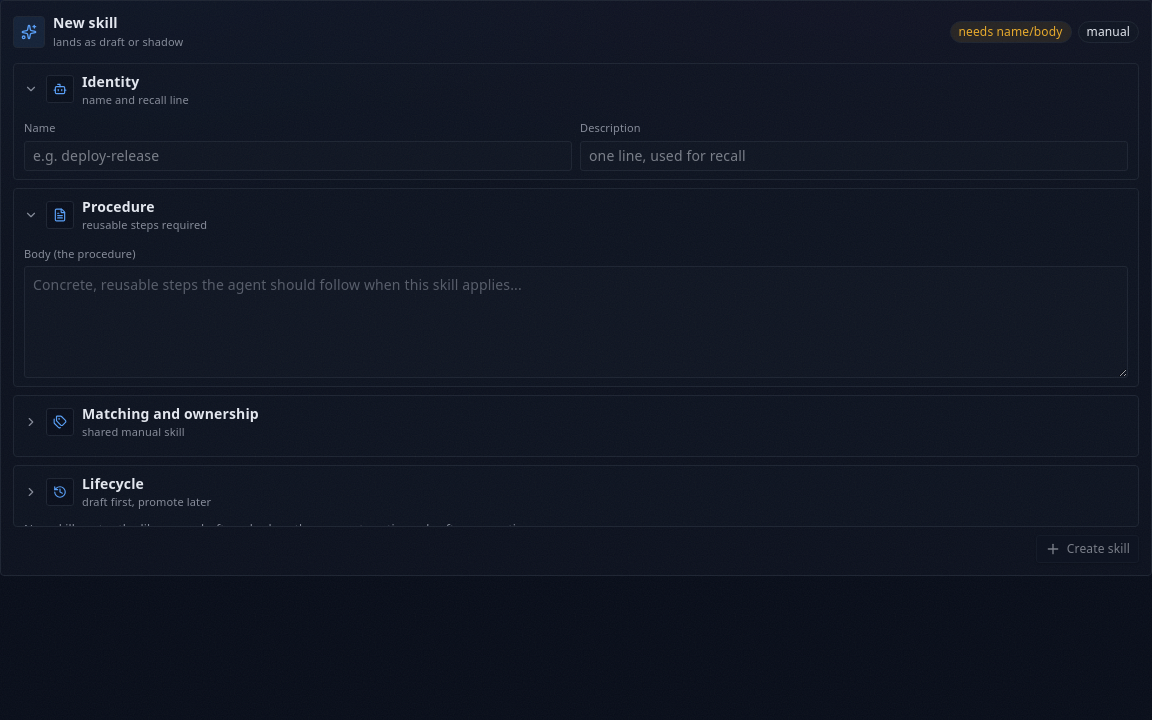
Test: AuthorSkillForm › disables Create until name and body are provided
Expected: the button "Create skill" is disabled, x1=1036 y1=535 x2=1139 y2=563
Step 1. Type "deploy-release" into the field named "Skill name" → (298, 156), box x1=24 y1=141 x2=572 y2=171
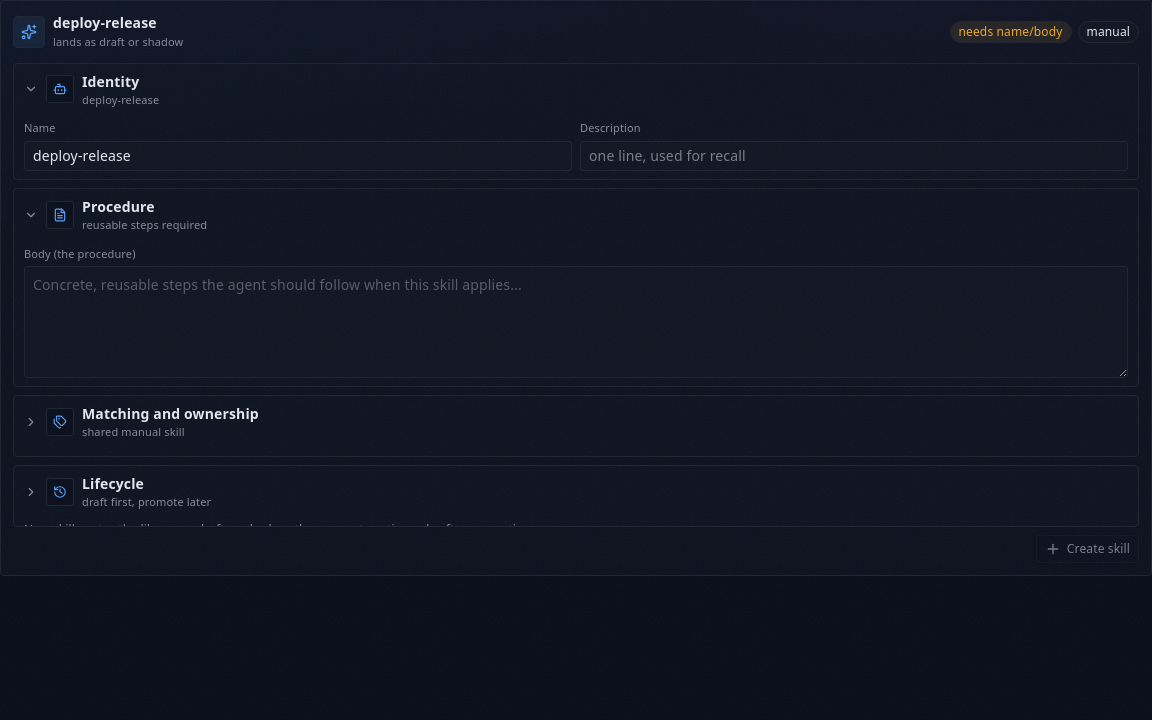
Expected: the button "Create skill" is disabled, x1=1036 y1=535 x2=1139 y2=563
Step 2. Replace the text in the text box named "Skill body" with "do the steps" → (576, 322), box x1=24 y1=266 x2=1128 y2=378
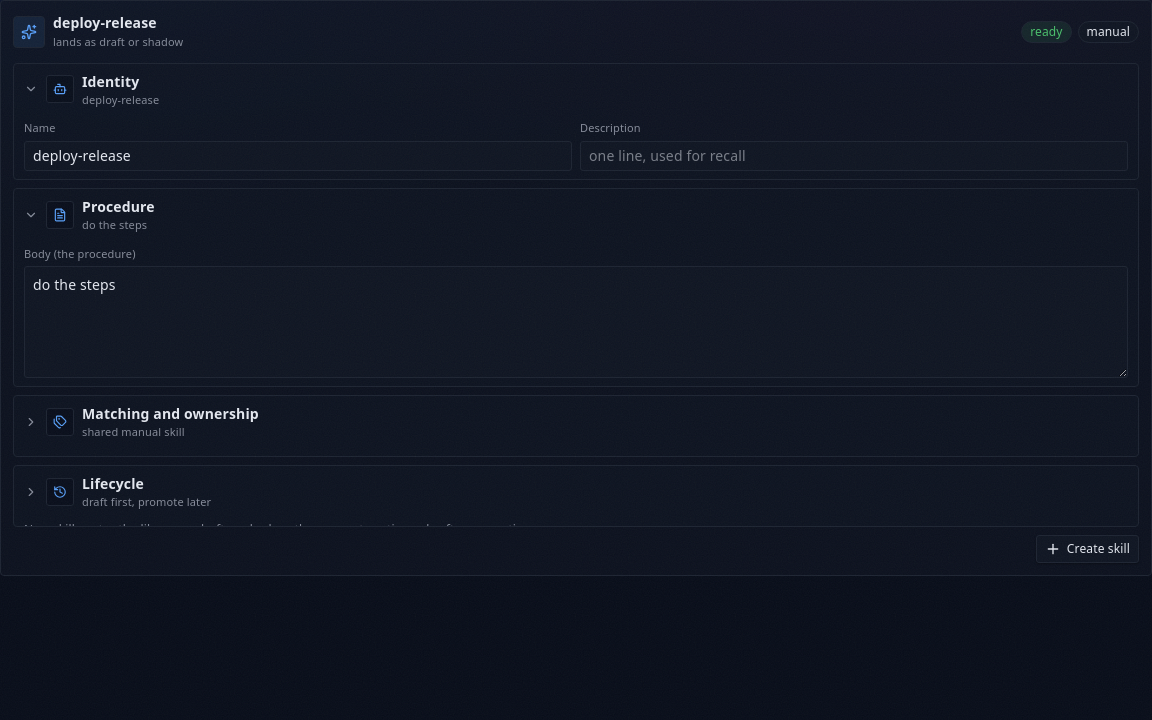
Expected: the button "Create skill" is enabled, x1=1036 y1=535 x2=1139 y2=563
